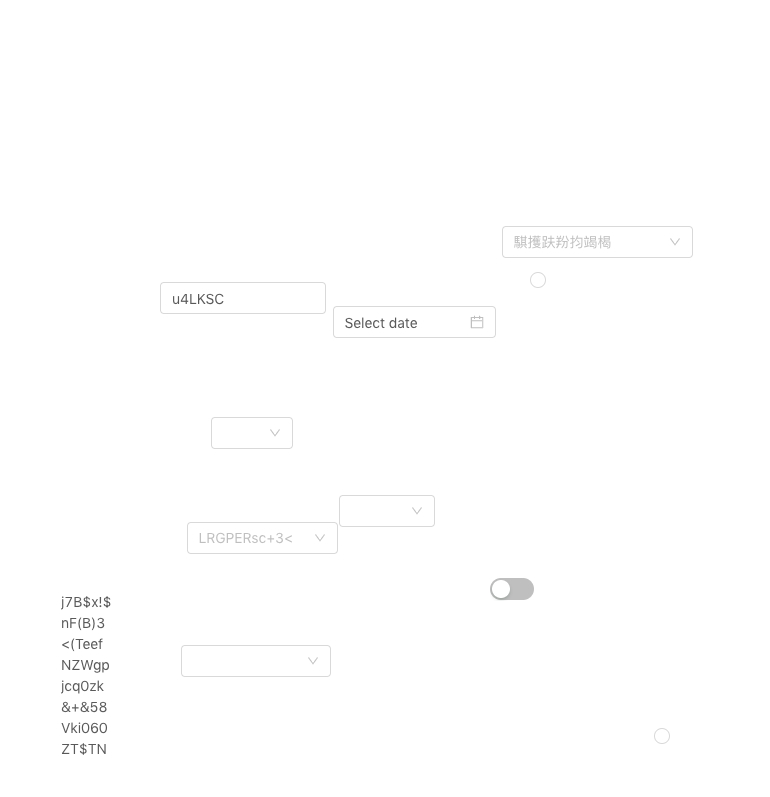DatePicker: (333, 306, 496, 338)
Input: (160, 282, 326, 314)
Radio: (530, 269, 546, 289), (654, 725, 670, 745)
Select: (502, 226, 693, 258), (187, 522, 338, 554), (181, 645, 331, 677), (339, 495, 435, 527), (211, 417, 293, 449)
Switch: (490, 577, 534, 601)
Text: (61, 591, 113, 761)
